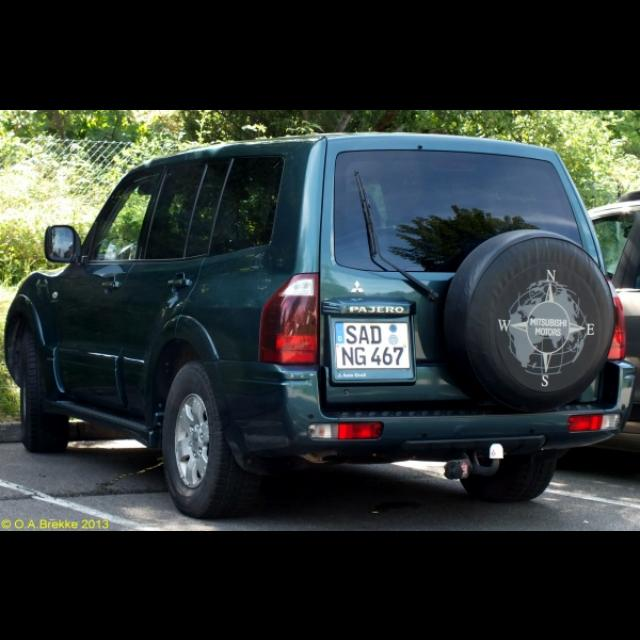d_license_plate: (335, 319, 409, 367)
